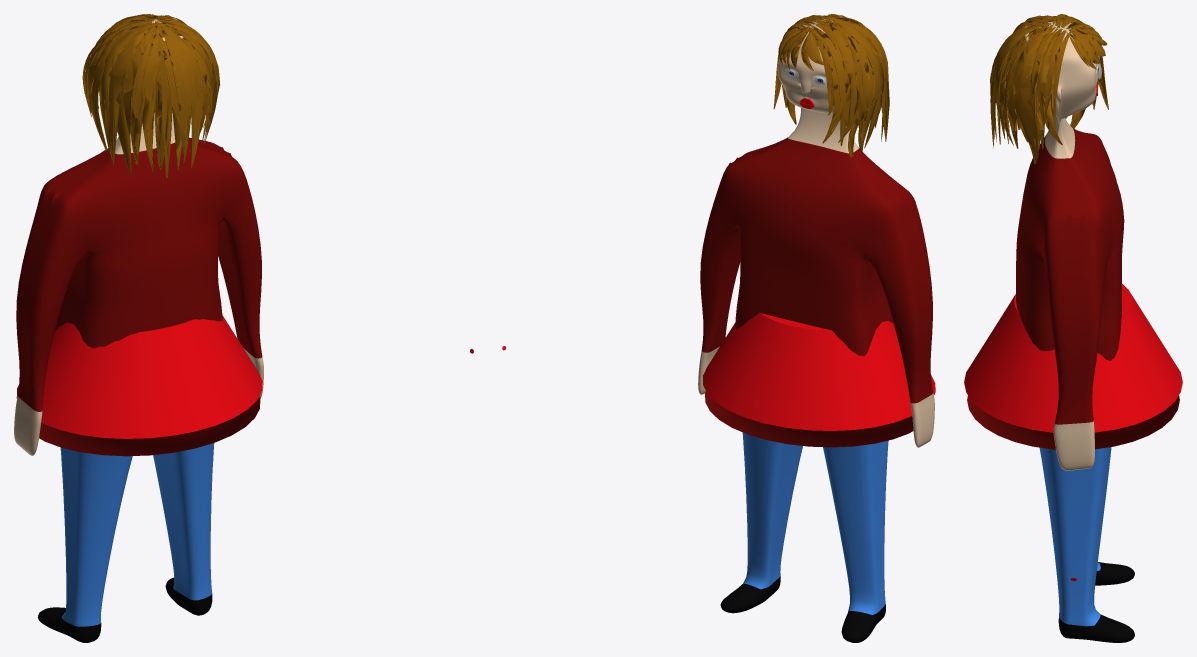
File: Nora_neu (1).fbx
The picture shows the model from 3 angles, left to right: view 1: azimuth 30°, elevation 25°; view 2: azimuth 150°, elevation 25°; view 3: azimuth 270°, elevation 25°; orthographic projection. The views are drawn at different scales.
Parts seen in each view (by area): view 1: Cube, Circle.010, NurbsPath.001, Circle.005; view 2: Cube, Circle.010, NurbsPath.001, Circle.005; view 3: Cube, Circle.010, NurbsPath.001, Circle.005.
Part boxes in pixels (box(x1,y1,x2,y2)): Cube: box(14, 19, 263, 642); Circle.010: box(16, 315, 262, 438); NurbsPath.001: box(82, 14, 220, 177); Circle.005: box(39, 397, 260, 456); Cube: box(698, 16, 934, 642); Circle.010: box(703, 313, 935, 430); NurbsPath.001: box(773, 14, 889, 157); Circle.005: box(705, 391, 913, 447); Cube: box(1016, 22, 1134, 642); Circle.010: box(964, 284, 1182, 432); NurbsPath.001: box(990, 14, 1108, 164); Circle.005: box(967, 395, 1179, 449).
Bounding box in the file's own units: 984 × 1287 × 432.
